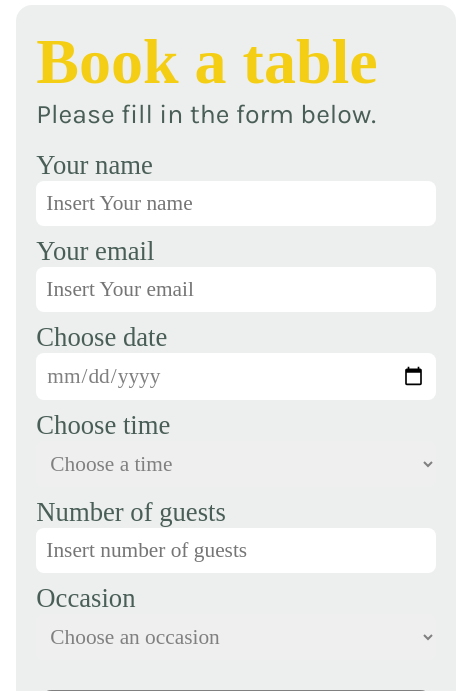
Scenario: BookingForm Component › enables the submit button when valid input is provided
The width and height of the screenshot is (473, 691).
In the field labelled "Your name": [236, 204] box [36, 181, 436, 226], type "John"
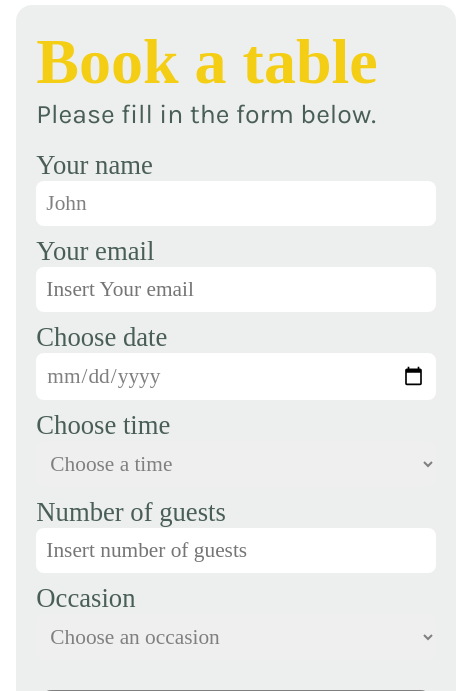
In the field labelled "Your email": [236, 290] box [36, 267, 436, 312], type "john@example.com"
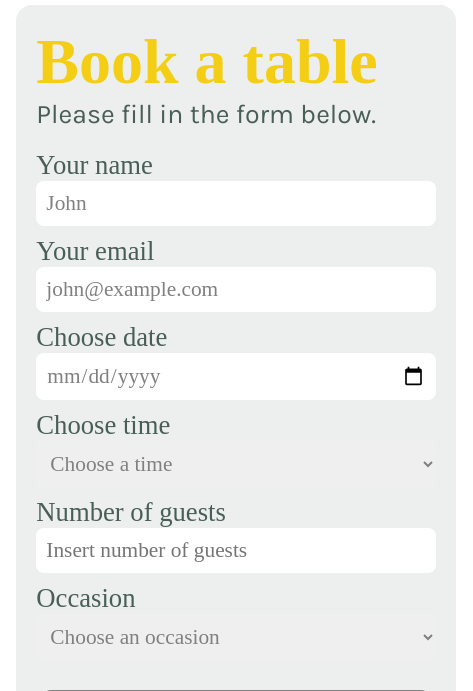
In the date field labelled "Choose date": [236, 376] box [36, 353, 436, 400], type "2024-11-03"
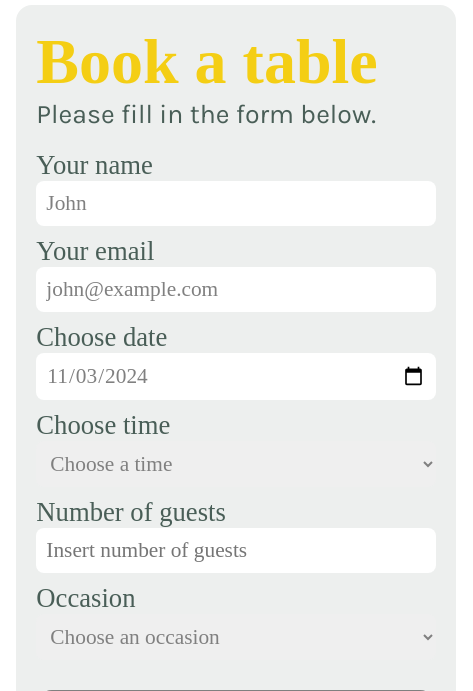
Select "18:00" in the dropdown labelled "Choose time": [236, 464] box [36, 441, 436, 487]
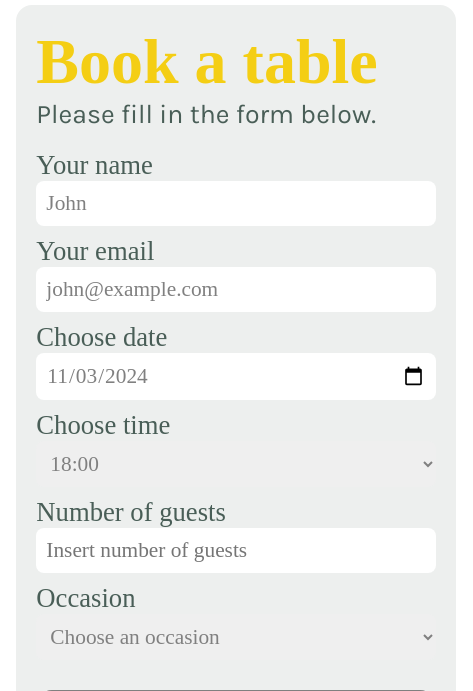
In the number field labelled "Number of guests": [236, 550] box [36, 528, 436, 573], type "2"
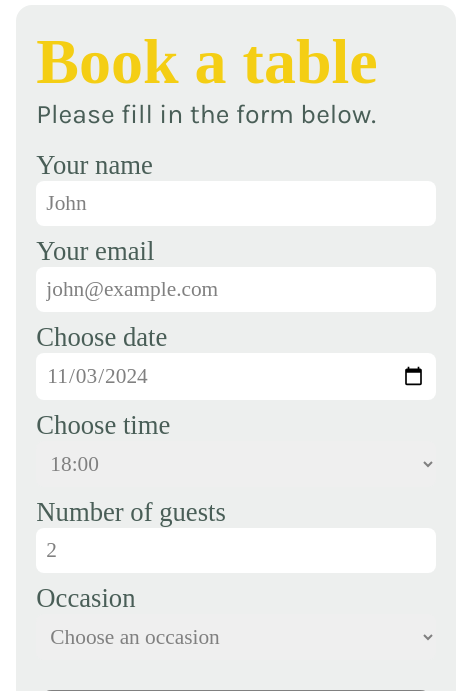
Select "Birthday" in the dropdown labelled "Occasion": [236, 637] box [36, 614, 436, 660]
(page scrolled)
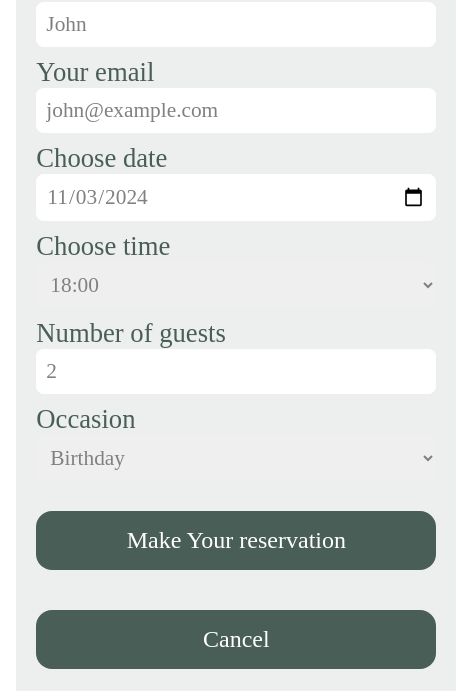
Expected: the button "Make Your reservation" is enabled, [36, 511, 436, 570]
